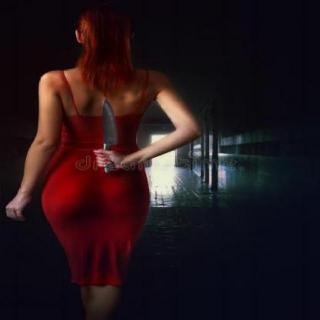knife: (91, 98, 127, 165)
